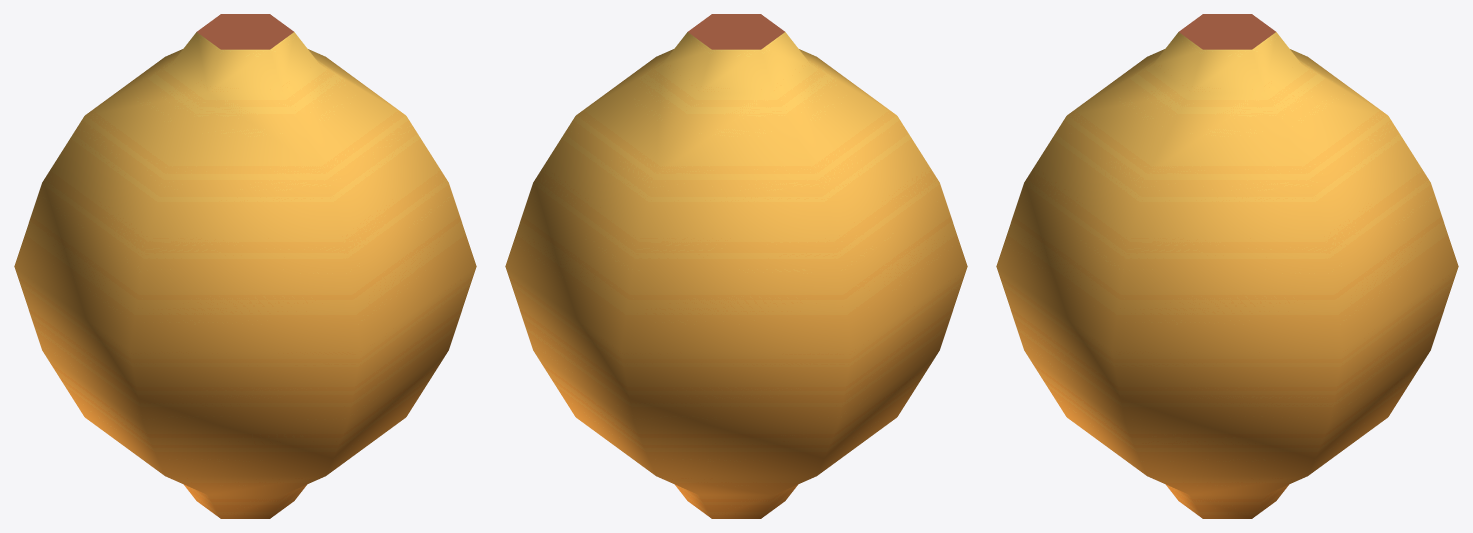
The model's file is lemon.glb.
3 views of the same model, side by side, from view 1: azimuth 30°, elevation 25°; view 2: azimuth 150°, elevation 25°; view 3: azimuth 270°, elevation 25° (orthographic).
Visible parts, largest first — view 1: lemon; view 2: lemon; view 3: lemon.
Boxes of the visible parts, x1,y1,x2,y2 form: lemon: [14, 14, 476, 518]; lemon: [505, 14, 967, 518]; lemon: [996, 14, 1458, 518].
Size of the model in its own units: 0.1732 by 0.224 by 0.2.
Materials: 1 (1 with a texture image).
